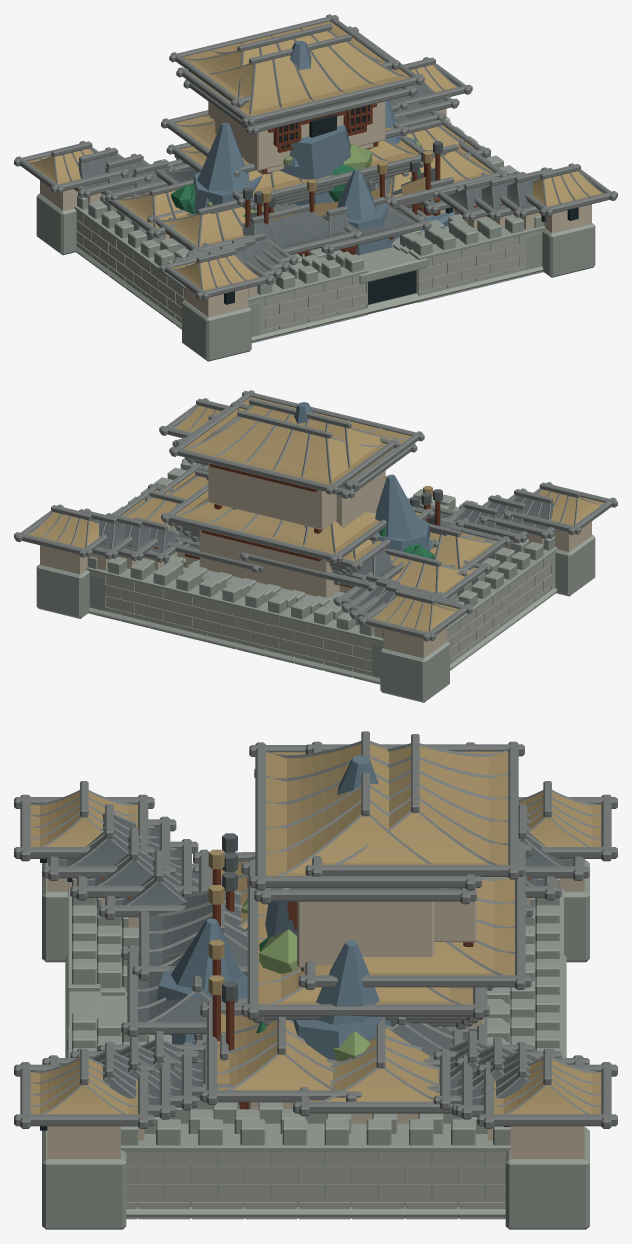
Rendered from arena-kit.glb.
3 renders of one model, top to bottom at view 1: azimuth 30°, elevation 25°; view 2: azimuth 150°, elevation 25°; view 3: azimuth 270°, elevation 25°, orthographic. The views are drawn at different scales.
Parts seen in each view (by area): view 1: imperial--imperial-amber-glaze, imperial--roof-tile-edges, imperial--weathered-limestone, imperial--dressed-wall-stone, mountain--mountain-slate, stronghold--roof-tile-edges, imperial--ivory-plaster, citadel--roof-tile-edges, stronghold--weathered-limestone, stronghold--glazed-slate-jade, village-b--roof-tile-edges, village-b--glazed-slate-jade (+12 smaller); view 2: imperial--imperial-amber-glaze, imperial--roof-tile-edges, imperial--weathered-limestone, imperial--dressed-wall-stone, imperial--ivory-plaster, stronghold--roof-tile-edges, stronghold--weathered-limestone, mountain--mountain-slate, citadel--roof-tile-edges, village-b--roof-tile-edges, fort--roof-tile-edges, stronghold--glazed-slate-jade (+5 smaller); view 3: imperial--imperial-amber-glaze, imperial--roof-tile-edges, imperial--weathered-limestone, imperial--dressed-wall-stone, imperial--ivory-plaster, stronghold--roof-tile-edges, mountain--mountain-slate, stronghold--weathered-limestone, citadel--roof-tile-edges, stronghold--glazed-slate-jade, village-b--glazed-slate-jade, fort--roof-tile-edges (+8 smaller).
Part boxes in pixels (x1=…): imperial--imperial-amber-glaze: x1=27, y1=21, x2=602, y2=290; imperial--roof-tile-edges: x1=14, y1=14, x2=617, y2=300; imperial--weathered-limestone: x1=36, y1=117, x2=595, y2=361; imperial--dressed-wall-stone: x1=76, y1=210, x2=543, y2=343; mountain--mountain-slate: x1=193, y1=41, x2=454, y2=255; stronghold--roof-tile-edges: x1=74, y1=73, x2=552, y2=278; imperial--ivory-plaster: x1=40, y1=101, x2=591, y2=317; citadel--roof-tile-edges: x1=101, y1=95, x2=525, y2=271; stronghold--weathered-limestone: x1=102, y1=201, x2=542, y2=336; stronghold--glazed-slate-jade: x1=78, y1=83, x2=540, y2=271; village-b--roof-tile-edges: x1=155, y1=159, x2=453, y2=254; village-b--glazed-slate-jade: x1=164, y1=163, x2=443, y2=248; imperial--imperial-amber-glaze: x1=29, y1=397, x2=604, y2=631; imperial--roof-tile-edges: x1=14, y1=390, x2=617, y2=641; imperial--weathered-limestone: x1=36, y1=458, x2=595, y2=702; imperial--dressed-wall-stone: x1=88, y1=551, x2=555, y2=684; imperial--ivory-plaster: x1=40, y1=463, x2=591, y2=658; stronghold--roof-tile-edges: x1=79, y1=414, x2=557, y2=619; stronghold--weathered-limestone: x1=89, y1=465, x2=529, y2=677; mountain--mountain-slate: x1=294, y1=402, x2=433, y2=551; citadel--roof-tile-edges: x1=106, y1=459, x2=530, y2=612; village-b--roof-tile-edges: x1=167, y1=499, x2=456, y2=591; fort--roof-tile-edges: x1=134, y1=467, x2=499, y2=606; stronghold--glazed-slate-jade: x1=91, y1=486, x2=553, y2=612; imperial--imperial-amber-glaze: x1=30, y1=744, x2=601, y2=1114; imperial--roof-tile-edges: x1=14, y1=731, x2=617, y2=1128; imperial--weathered-limestone: x1=42, y1=852, x2=589, y2=1229; imperial--dressed-wall-stone: x1=125, y1=1151, x2=506, y2=1219; imperial--ivory-plaster: x1=47, y1=859, x2=584, y2=1158; stronghold--roof-tile-edges: x1=42, y1=769, x2=589, y2=1119; mountain--mountain-slate: x1=149, y1=755, x2=391, y2=1060; stronghold--weathered-limestone: x1=97, y1=898, x2=534, y2=1133; citadel--roof-tile-edges: x1=70, y1=827, x2=561, y2=1110; stronghold--glazed-slate-jade: x1=59, y1=815, x2=572, y2=1104; village-b--glazed-slate-jade: x1=149, y1=891, x2=476, y2=1060; fort--roof-tile-edges: x1=98, y1=850, x2=533, y2=1098.
Size of the model in its own units: 4.05 by 1.85 by 3.16.
